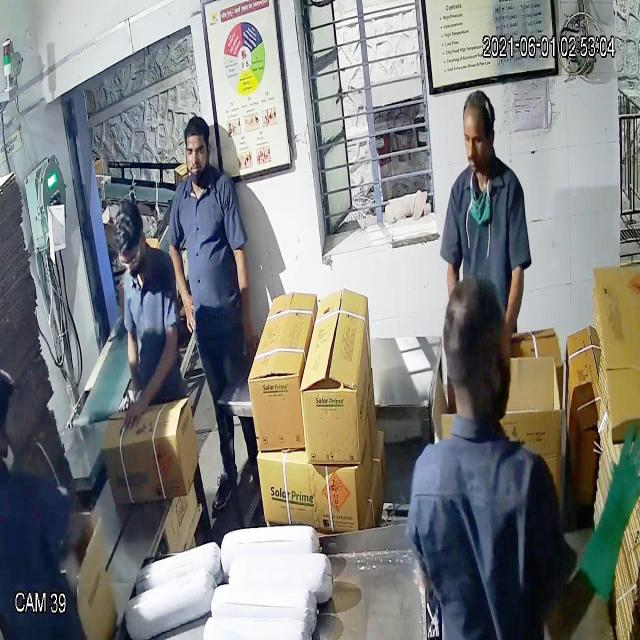glasses: (113, 242, 149, 276)
no-glass: (459, 125, 499, 158)
